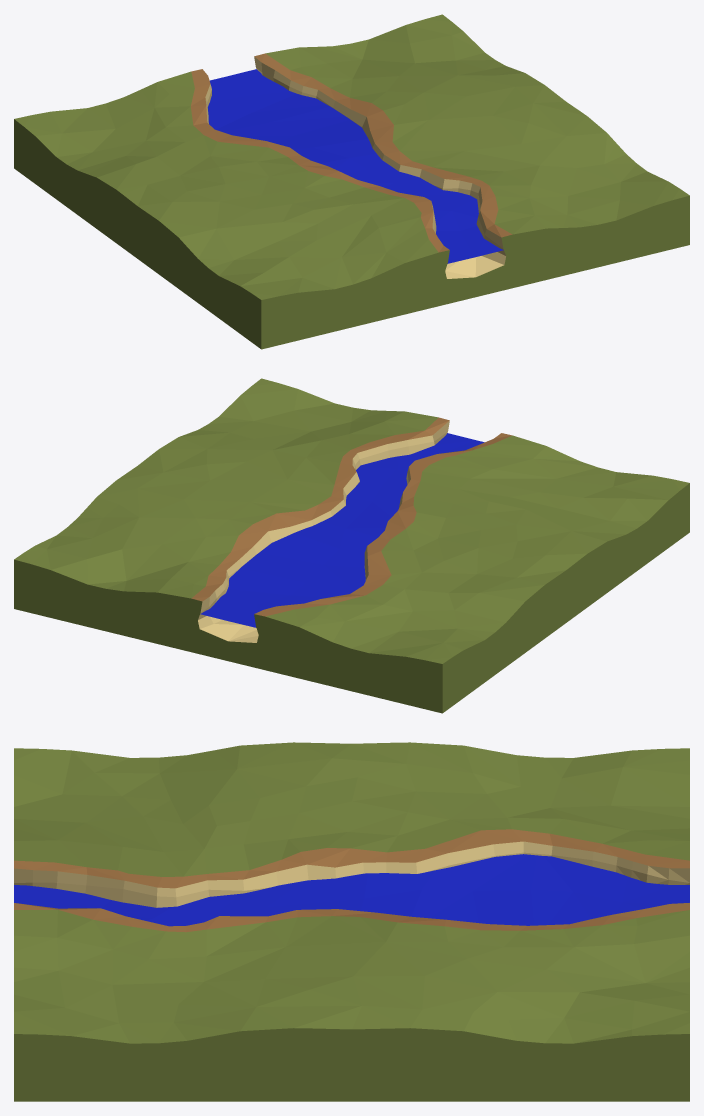
Rendered from Terrian_River_Straight_Flat-06.fbx.
The picture shows the model from 3 angles, top to bottom: view 1: azimuth 30°, elevation 25°; view 2: azimuth 150°, elevation 25°; view 3: azimuth 270°, elevation 25°; orthographic projection. The views are drawn at different scales.
Parts seen in each view (by area): view 1: Terrian_River_Straight_Flat-06; view 2: Terrian_River_Straight_Flat-06; view 3: Terrian_River_Straight_Flat-06.
Boxes of the visible parts, box(x1,y1,x2,y2) form: Terrian_River_Straight_Flat-06: box(14, 14, 689, 349); Terrian_River_Straight_Flat-06: box(14, 378, 689, 713); Terrian_River_Straight_Flat-06: box(14, 742, 689, 1101).
Size of the model in its own units: 3600 by 452 by 3600.
